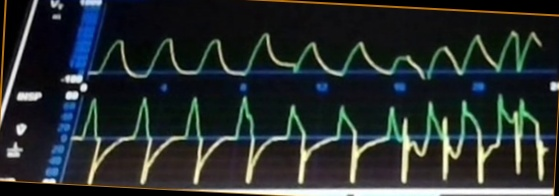Double_Triggering Flow: (82, 93, 549, 185)
Double_Triggering Volume: (103, 21, 543, 78)
